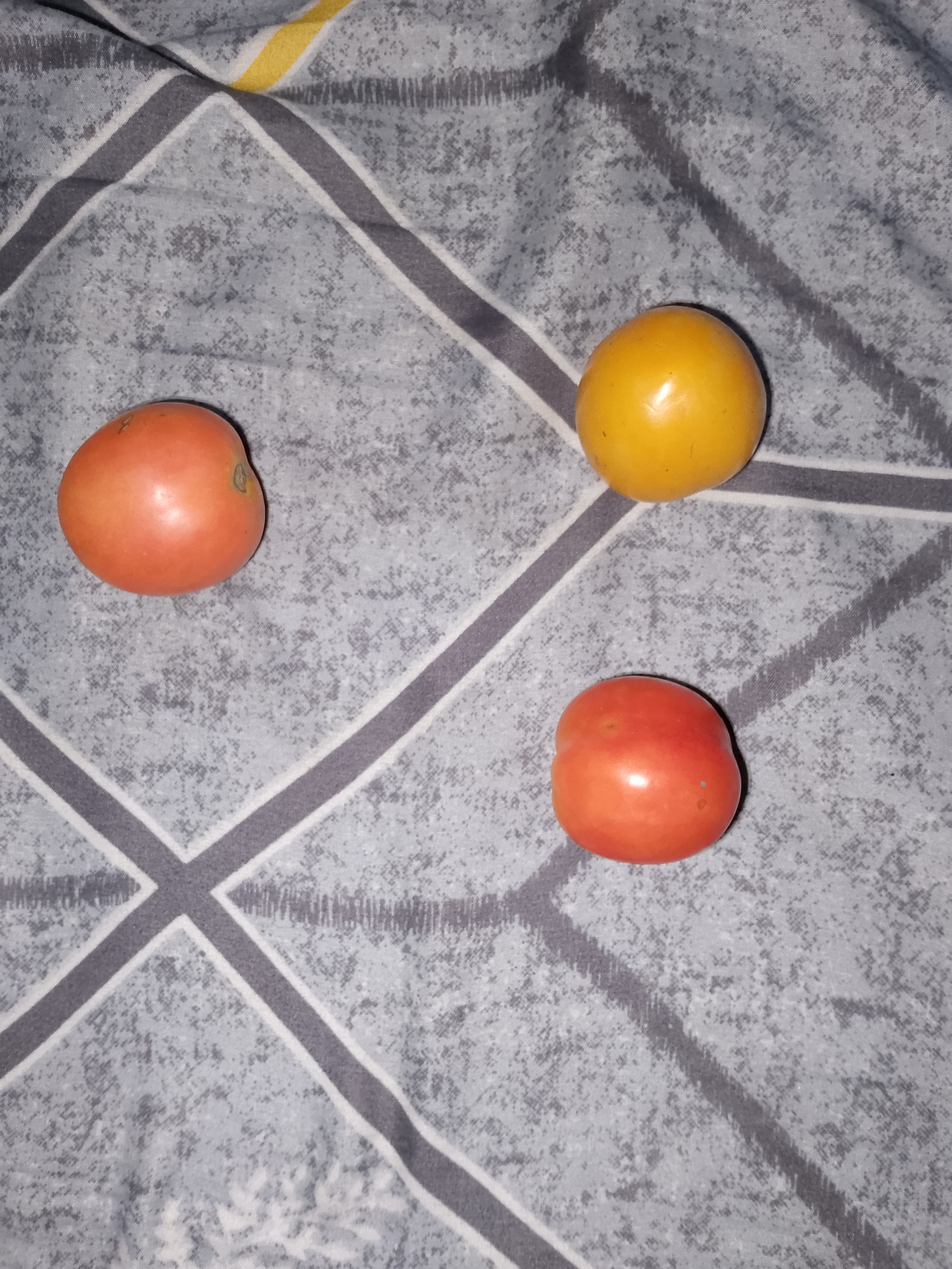Ripe: (522, 257, 797, 550), (491, 641, 776, 919), (52, 335, 278, 657)
